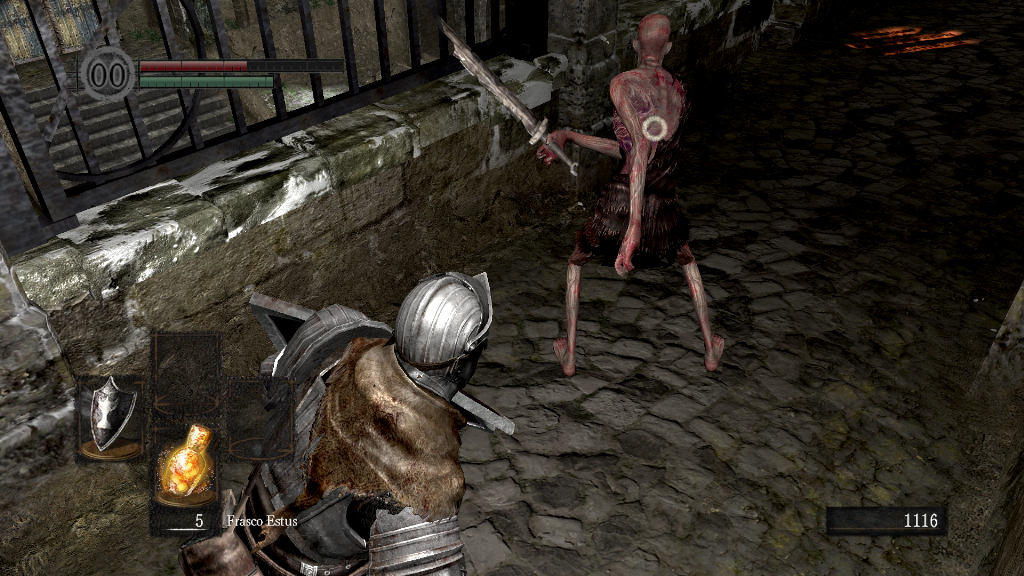health: (138, 58, 343, 71)
hollow: (539, 15, 728, 377)
humanity: (80, 45, 136, 102)
player: (178, 265, 520, 576)
souls: (825, 506, 945, 536)
stamina: (138, 74, 274, 88)
